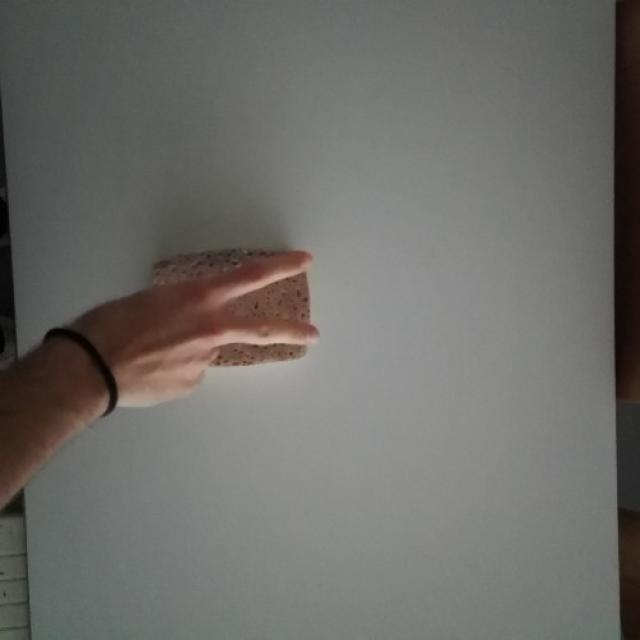scissors: (88, 252, 318, 408)
